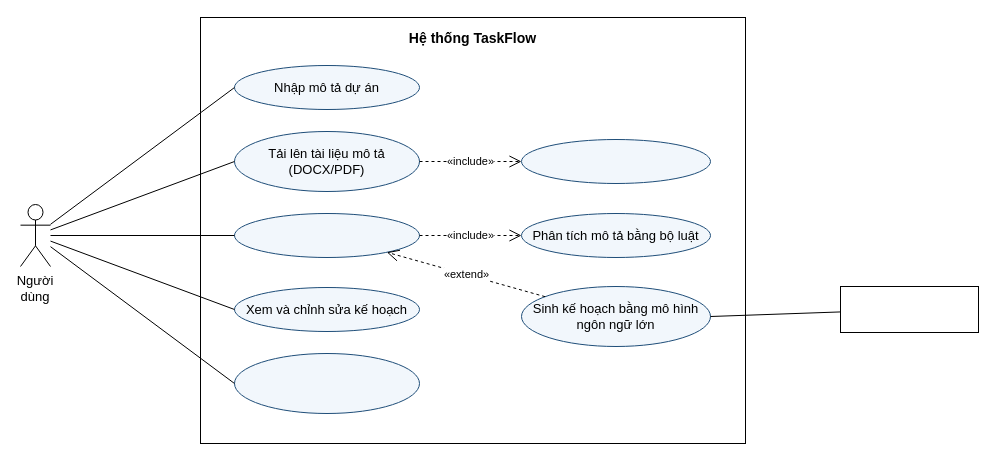
This 996x461 diagram has some shape labels left out. Here are the shapes that lost their labels. From the top down, the box of each, then its label:
(520, 138, 710, 184): Trích xuất văn bản từ tài liệu
(234, 212, 420, 258): Sinh kế hoạch bảng
(840, 286, 978, 332): «hệ thống ngoài» Dịch vụ AI (Gemini)
(234, 352, 420, 414): Áp dụng kế hoạch để tạo bảng
